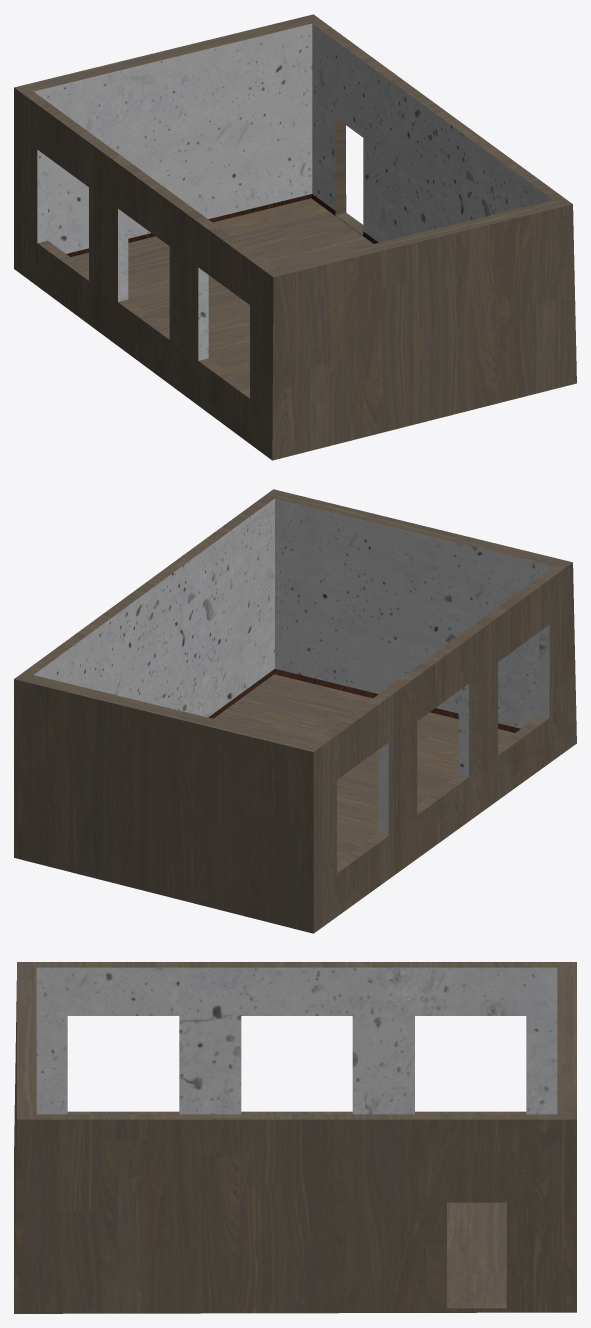
File: кубик.fbx
3 views of the same model, one above another, from view 1: azimuth 30°, elevation 25°; view 2: azimuth 150°, elevation 25°; view 3: azimuth 270°, elevation 25° (orthographic). The views are drawn at different scales.
Visible parts, largest first — view 1: Стены и пол; view 2: Стены и пол; view 3: Стены и пол.
Boxes of the visible parts, x1,y1,x2,y2 form: Стены и пол: (14, 14, 576, 460); Стены и пол: (14, 489, 576, 933); Стены и пол: (14, 962, 576, 1313).
Size of the model in its own units: 6.56 by 3.74 by 9.73.
